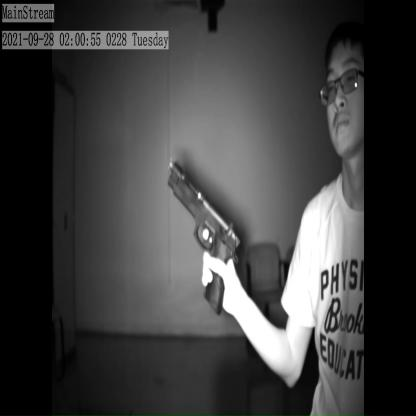weapon: (166, 157, 243, 316)
